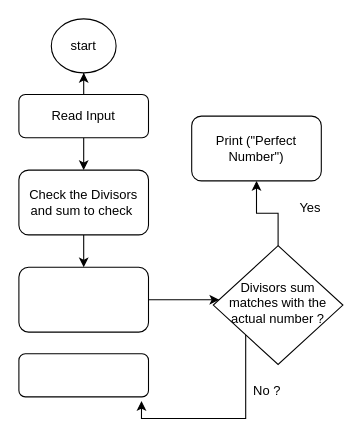
Some shapes in this 362 by 446 pixel diagram are drawn without their labels. Each missing label, with the centre of its shape:
Loop through and go till the n'th number: point 83,299
print("Not perfect"): point 83,375
